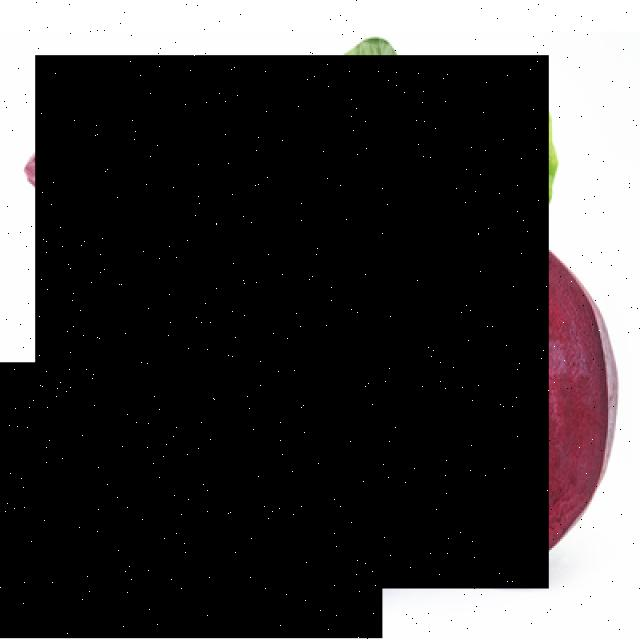Beetroot: (37, 55, 550, 589), (0, 362, 382, 639)
